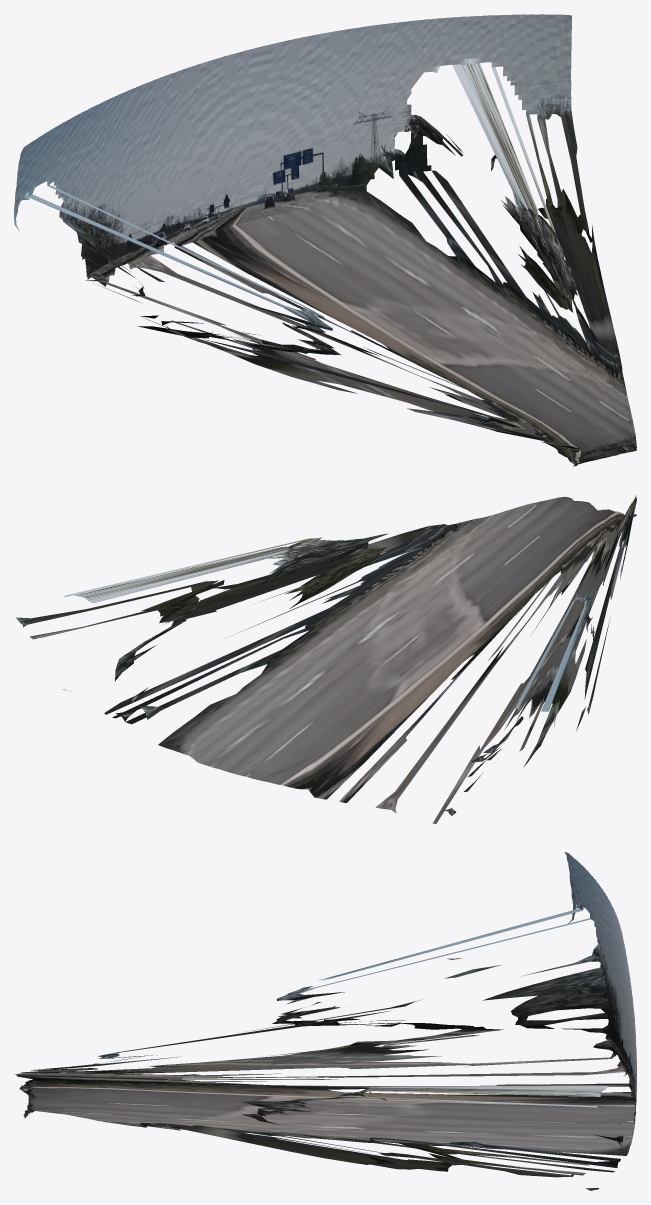
3 renders of one model, top to bottom at view 1: azimuth 30°, elevation 25°; view 2: azimuth 150°, elevation 25°; view 3: azimuth 270°, elevation 25°, orthographic. The views are drawn at different scales.
Visible parts, largest first — view 1: defaultobject; view 2: defaultobject; view 3: defaultobject.
Part boxes in pixels (left/top/right/bottom): defaultobject: left=14, top=14, right=636, bottom=466; defaultobject: left=16, top=495, right=636, bottom=823; defaultobject: left=14, top=852, right=636, bottom=1190.
Bounding box in the file's own units: 41.03 × 13.47 × 45.04.
Materials: 1 (1 with a texture image).
